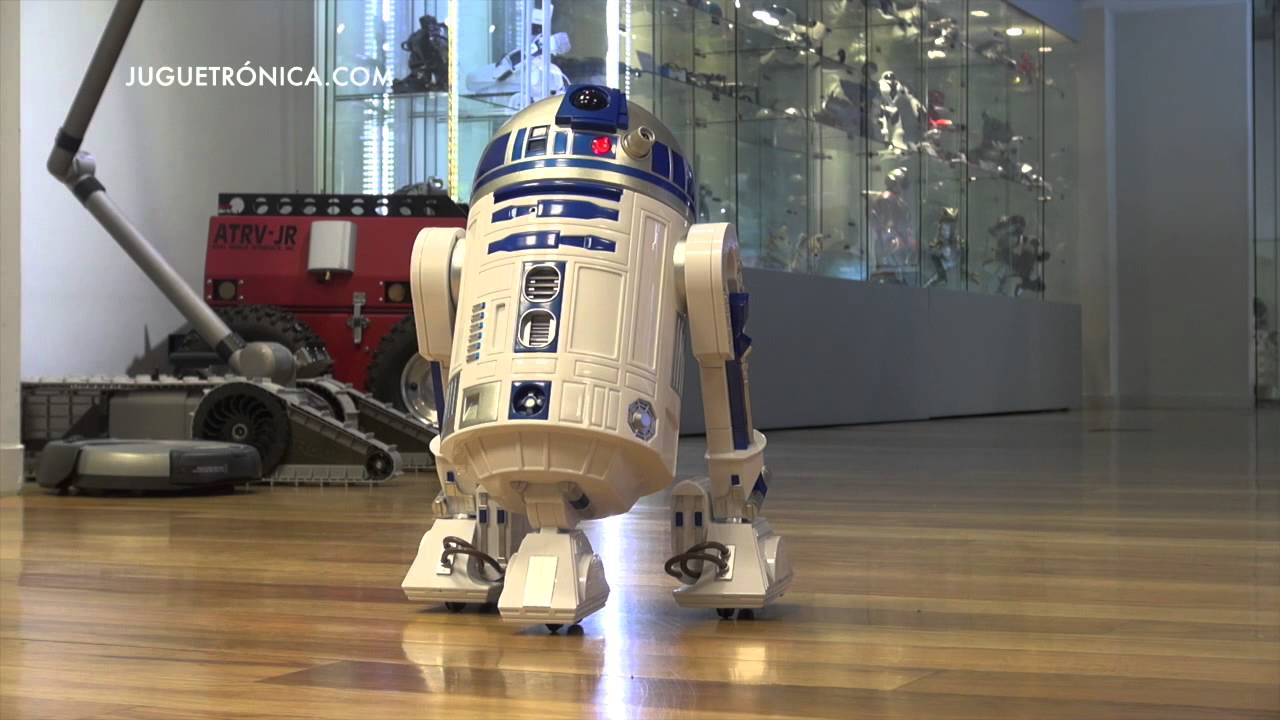r2d2: (412, 89, 784, 621)
